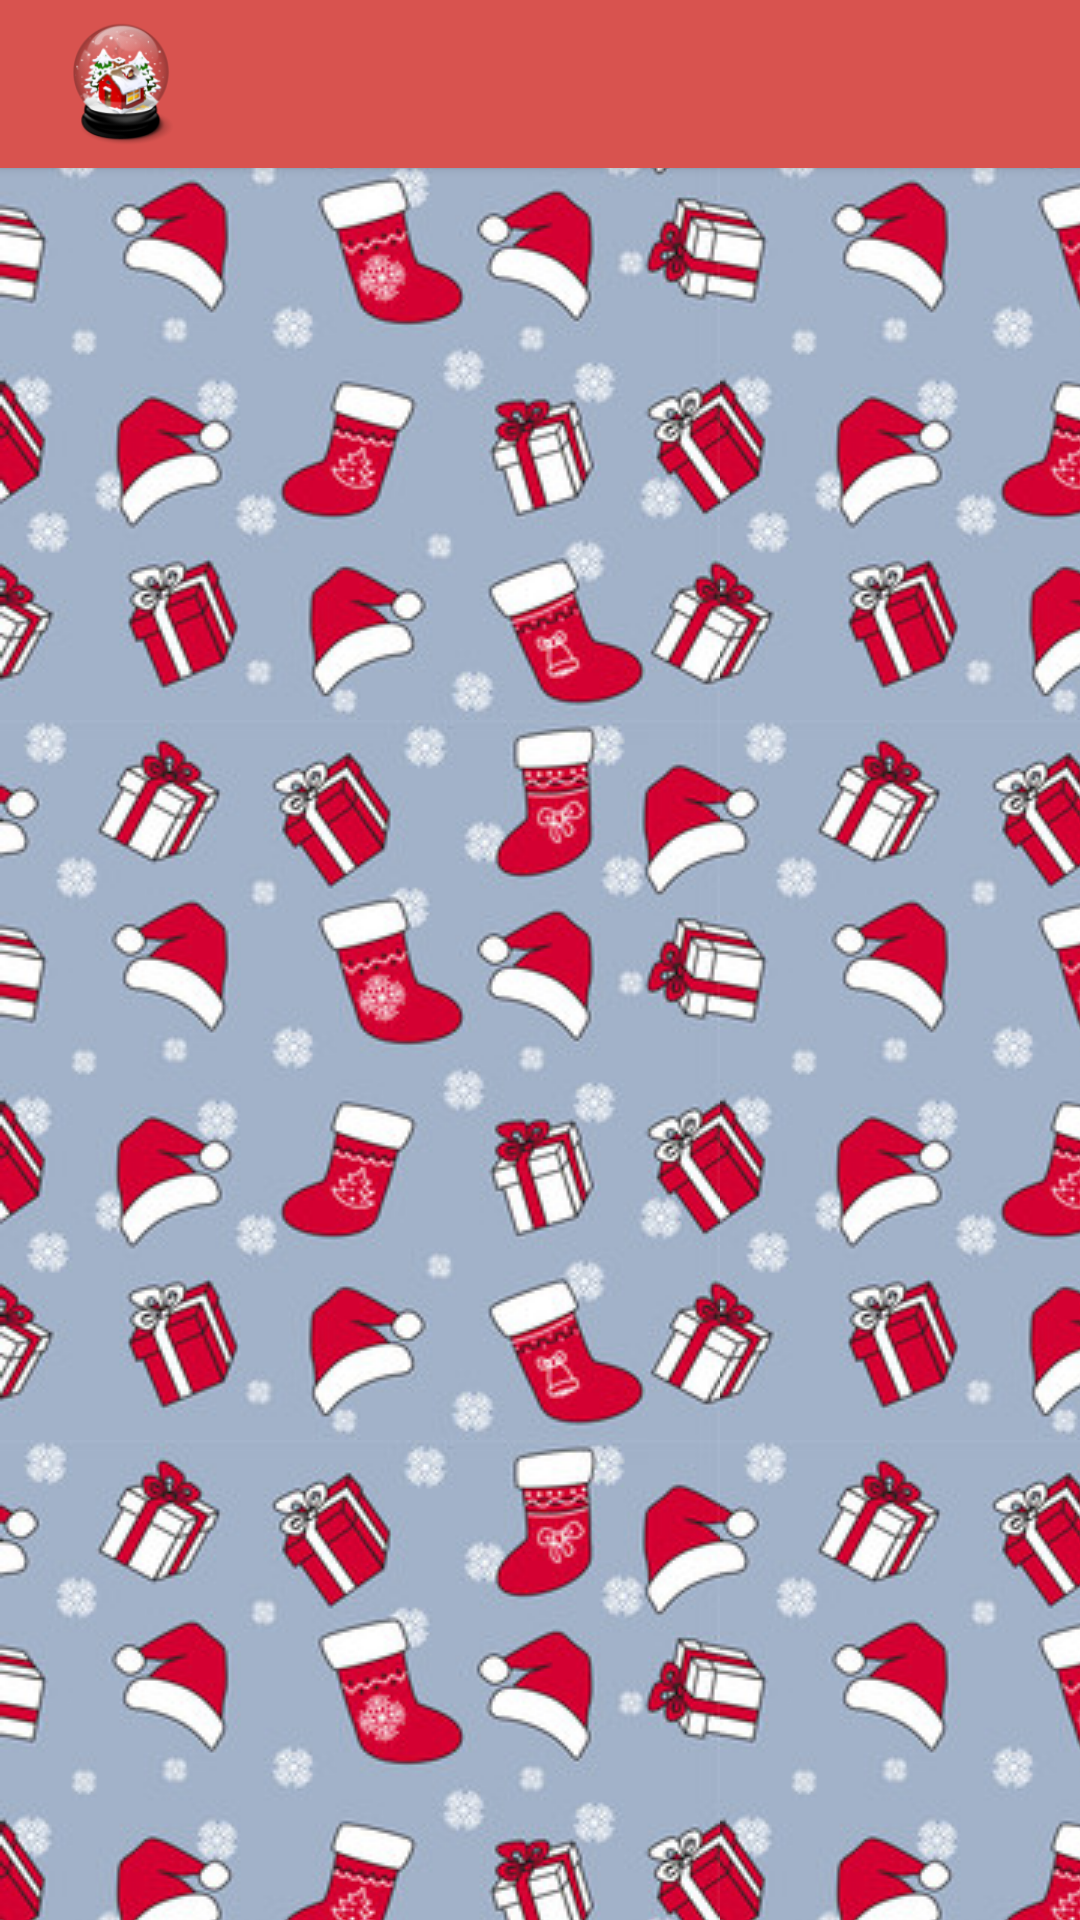

Screen size 1080px×1920px. Icon name, then its box in pixels as (x1, y1, x2, y2):
christmas house: (73, 24, 169, 142)
